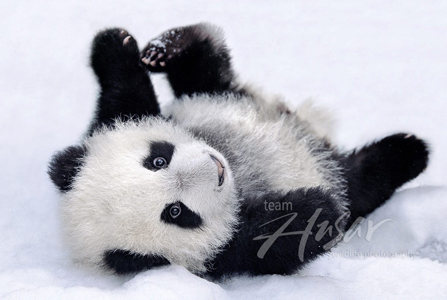panda: (55, 16, 426, 271)
